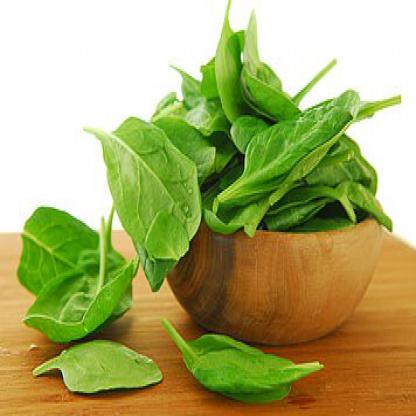spinach: (83, 0, 401, 292)
